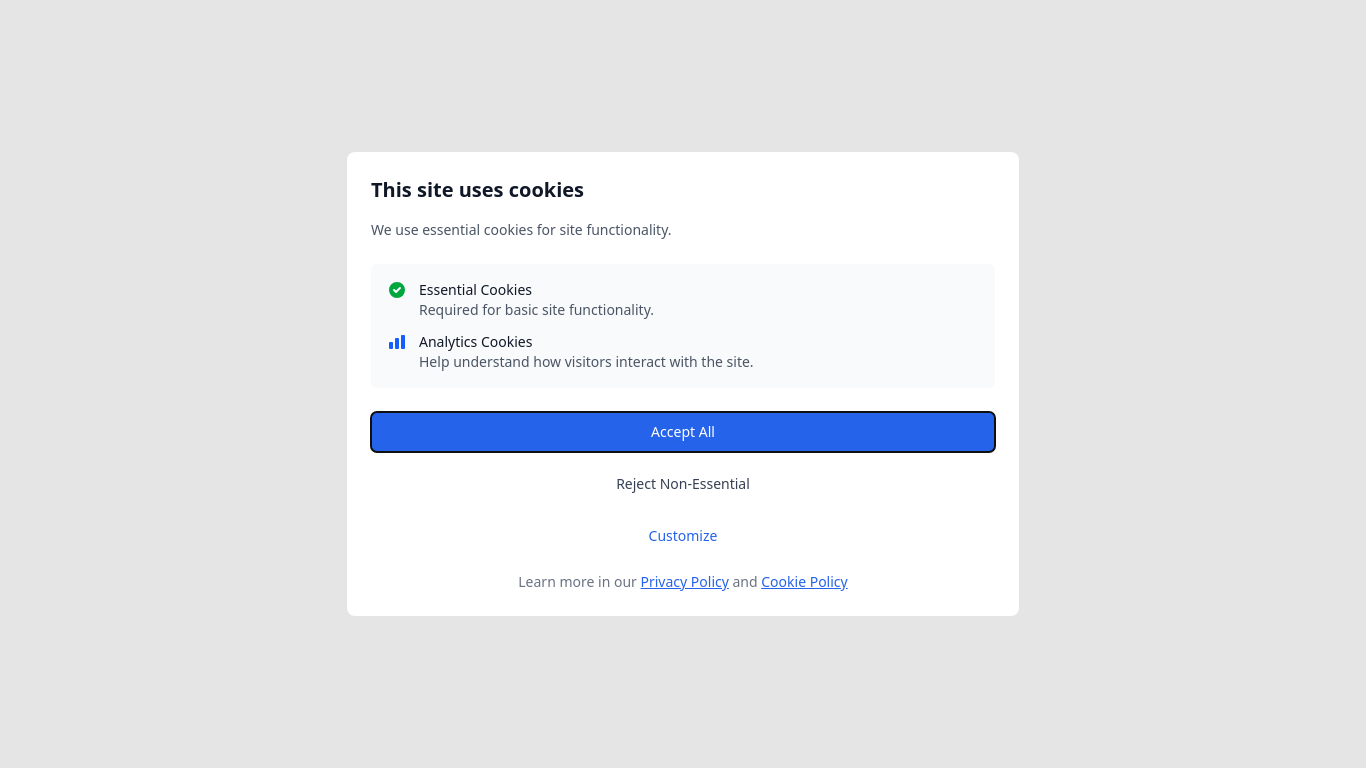
Scenario: CookieConsent › User interactions - Customize view › should return to main view when back button clicked
What coordinates should you click on to do the following:
click the button "Customize"
I would click on:
 (683, 536)
Its box is [371,516,995,556].
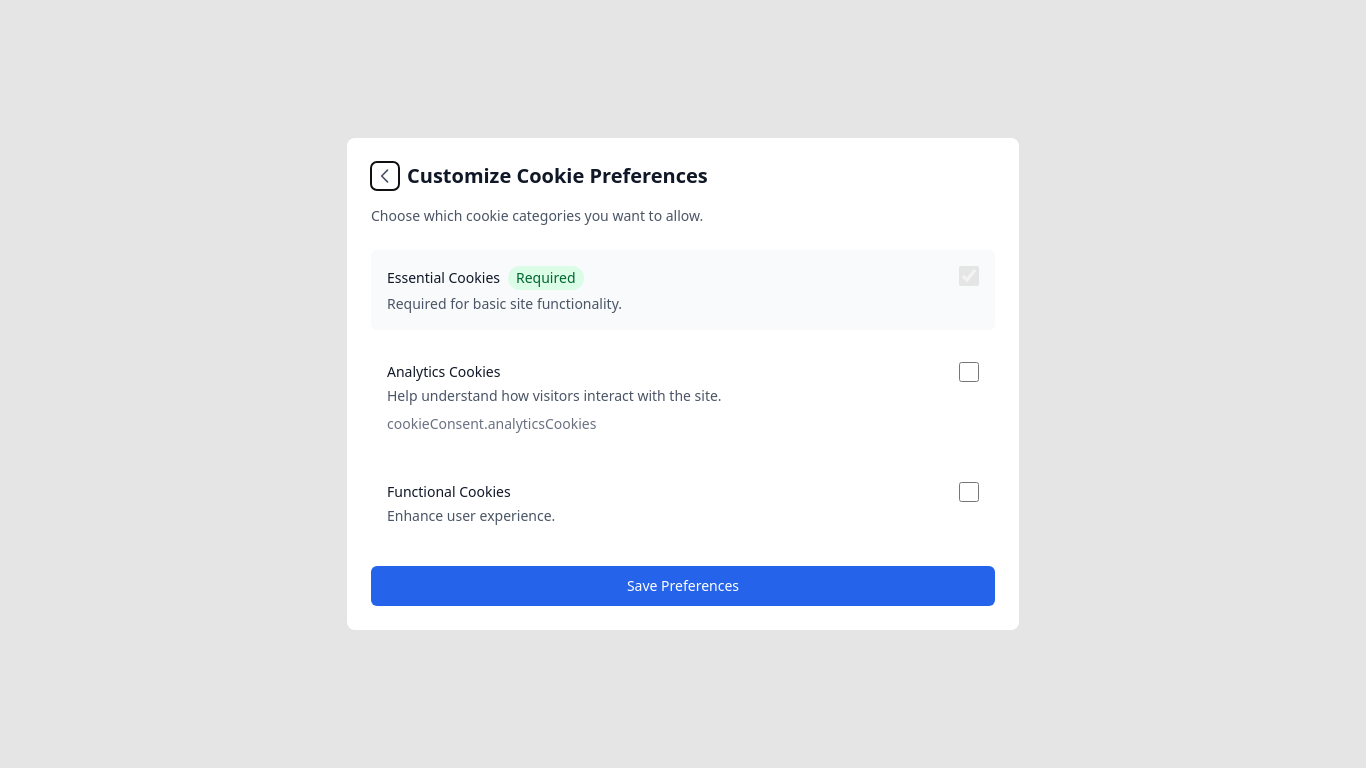
What coordinates should you click on to do the following:
click the button named "Back"
I would click on:
 (385, 176)
Its box is [371,162,399,190].
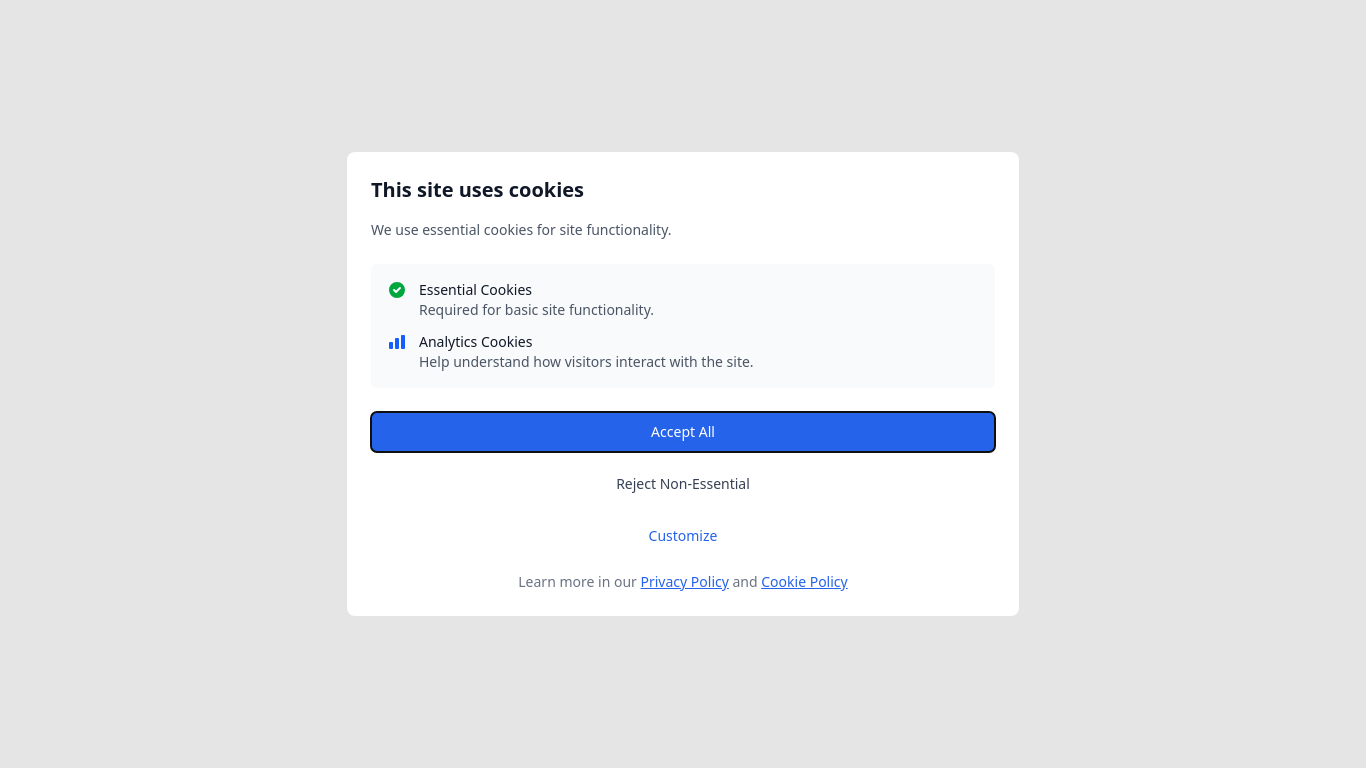
Check: the heading "This site uses cookies" is shown, box [371,176,584,203]
Check: the button "Accept All" is shown, box [371,412,995,452]
